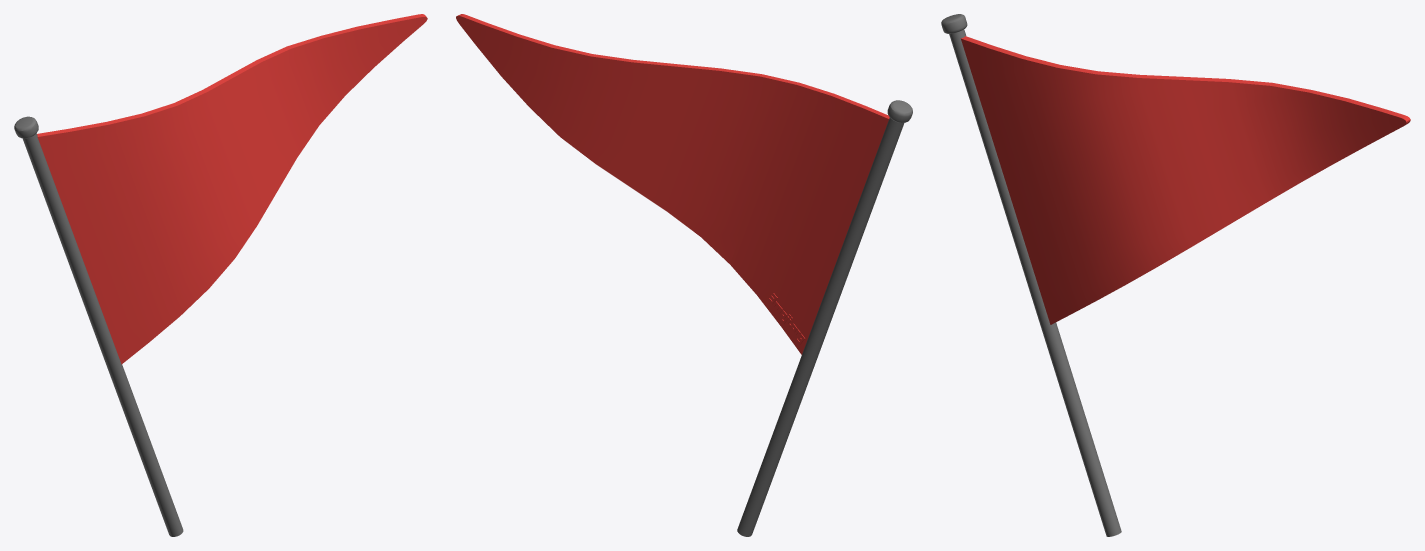
The model's file is triangular_flag.glb.
3 views of the same model, side by side, from view 1: azimuth 30°, elevation 25°; view 2: azimuth 150°, elevation 25°; view 3: azimuth 330°, elevation 25° (orthographic). The views are drawn at different scales.
Visible parts, largest first — view 1: flag.002, Circle.2655; view 2: flag.002, Circle.2655; view 3: flag.002, Circle.2655.
Part boxes in pixels (<box>): flag.002: <box>37,14,427,364</box>; Circle.2655: <box>14,116,183,536</box>; flag.002: <box>456,14,889,354</box>; Circle.2655: <box>737,100,912,536</box>; flag.002: <box>960,36,1410,324</box>; Circle.2655: <box>941,14,1121,536</box>.
Bounding box in the file's own units: 1.85 × 1.89 × 0.2402.
1 material, 1 textured.
